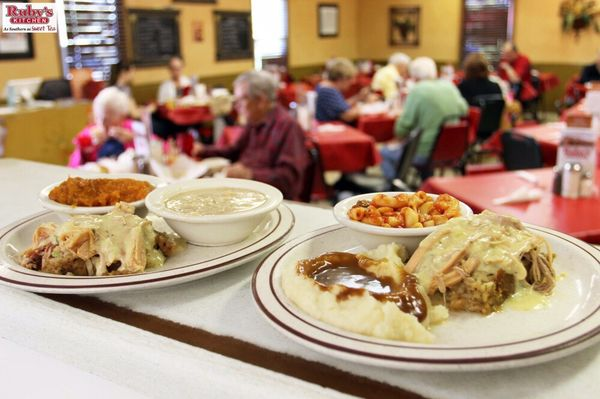sushi: (147, 178, 283, 247), (333, 190, 474, 246), (42, 175, 160, 216)
